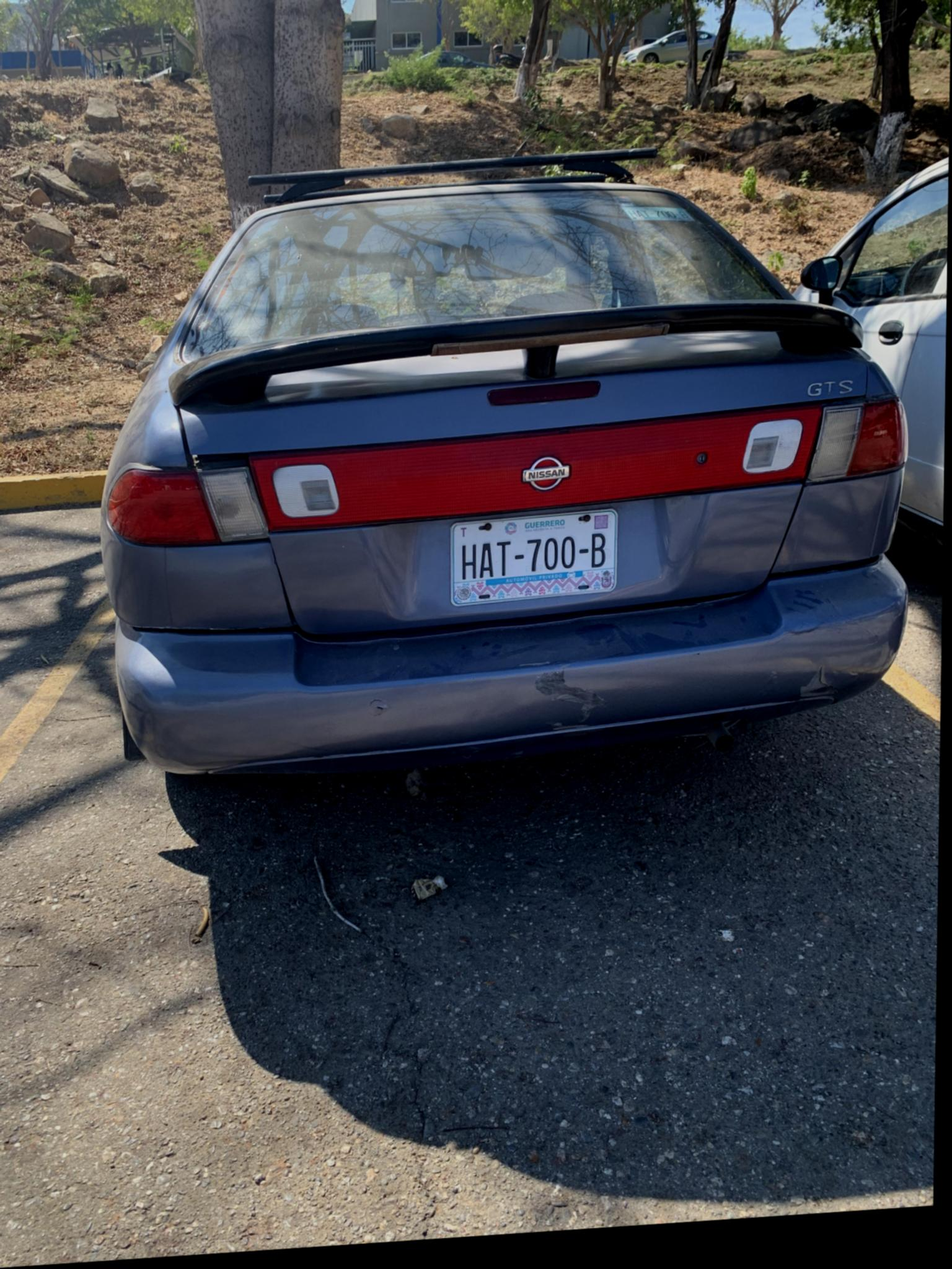License_Plate: (433, 502, 631, 613)
